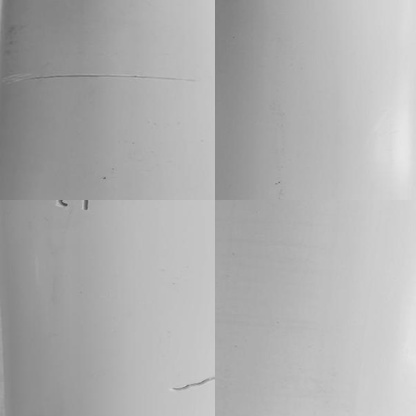fengxi: (172, 376, 223, 394)
sunshang: (51, 200, 67, 210), (80, 200, 90, 214)
